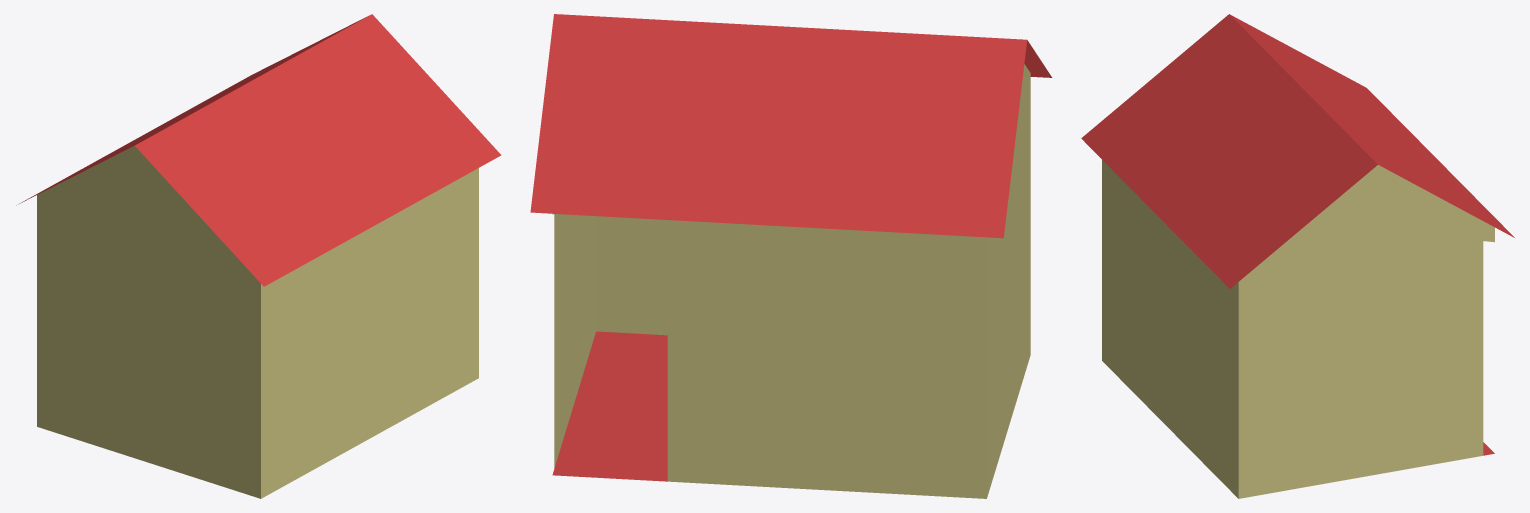
3 views of the same model, side by side, from view 1: azimuth 30°, elevation 25°; view 2: azimuth 150°, elevation 25°; view 3: azimuth 270°, elevation 25° (orthographic). The views are drawn at different scales.
Bounding box in the file's own units: 15.01 × 13.71 × 11.03.
